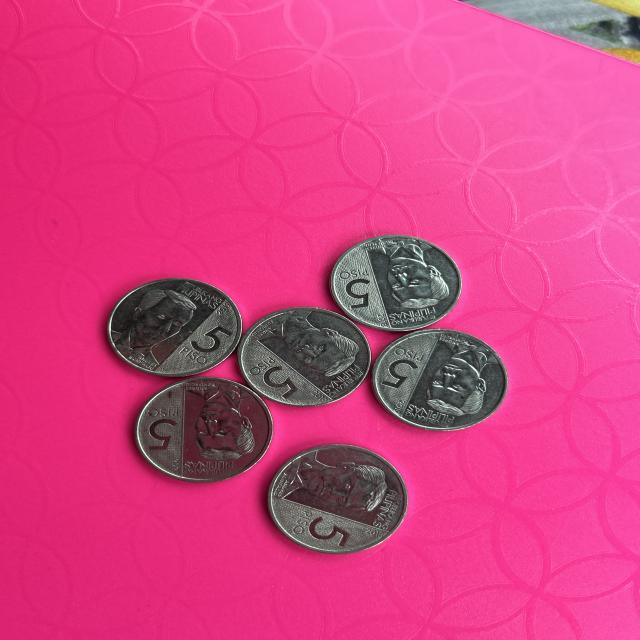5_New_Front: (327, 272, 381, 332), (284, 502, 354, 547), (177, 309, 226, 372), (242, 353, 292, 400), (143, 405, 183, 456), (379, 342, 416, 387)
